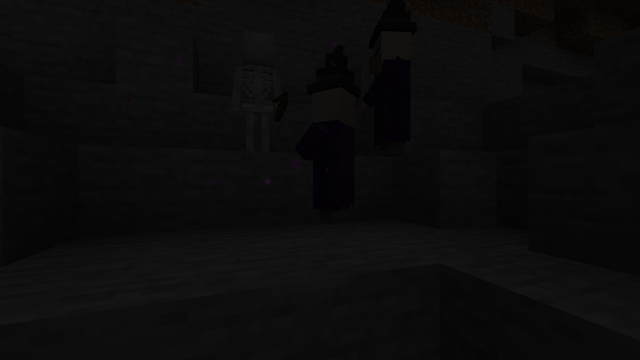sorcieres: (308, 79, 361, 225), (365, 20, 418, 157)
squelettes: (238, 28, 277, 132)
